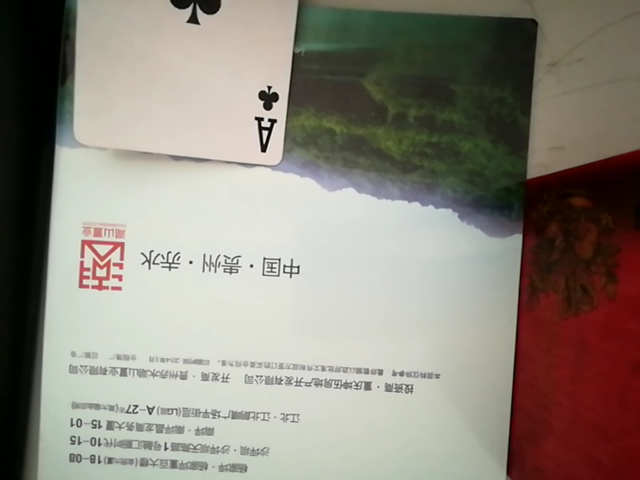mh a: (72, 0, 307, 165)
